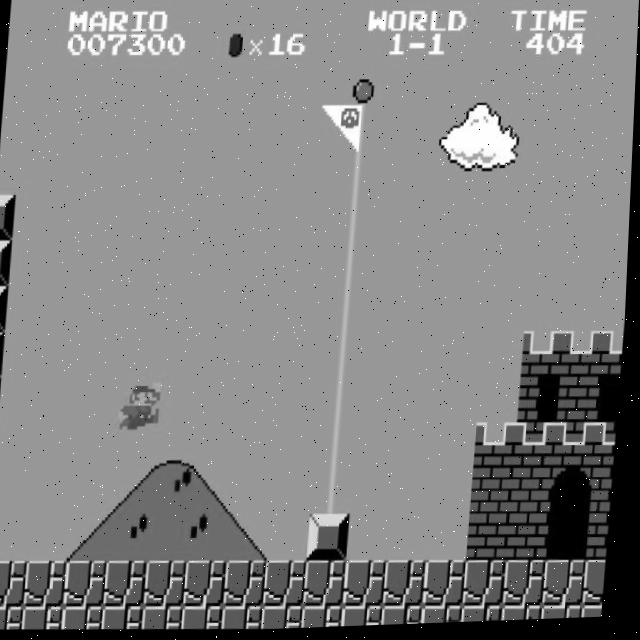1- brick_block: (591, 517, 614, 565)
11- little_mario: (118, 380, 165, 431)
17- undestructible_block: (267, 561, 312, 610), (507, 562, 552, 611), (227, 561, 272, 609), (307, 561, 352, 609), (347, 562, 392, 610), (387, 562, 432, 610), (427, 562, 472, 610), (467, 563, 512, 611), (148, 560, 192, 609), (28, 560, 72, 608), (68, 560, 112, 608), (108, 560, 152, 608), (188, 561, 232, 609), (547, 563, 591, 611), (0, 559, 32, 608), (587, 563, 611, 611), (26, 605, 69, 631), (266, 606, 308, 632), (66, 606, 109, 631), (106, 606, 149, 631), (146, 606, 189, 631), (186, 606, 229, 631), (226, 607, 269, 632), (306, 606, 348, 630), (346, 607, 388, 629), (386, 607, 428, 628), (426, 608, 468, 627), (466, 608, 508, 626), (506, 607, 548, 625), (0, 605, 29, 630), (546, 608, 588, 623), (586, 609, 607, 622)
7- goal_pole: (320, 378, 365, 427), (342, 58, 387, 106), (339, 104, 384, 152), (336, 150, 381, 198), (326, 287, 371, 335), (330, 241, 374, 290), (323, 333, 368, 380), (314, 470, 358, 518), (333, 196, 377, 243), (317, 425, 361, 472)
9- hard_block: (310, 516, 355, 564), (0, 194, 18, 240), (0, 239, 15, 287), (0, 284, 11, 332), (0, 330, 7, 377), (0, 376, 5, 424), (0, 423, 1, 469)
